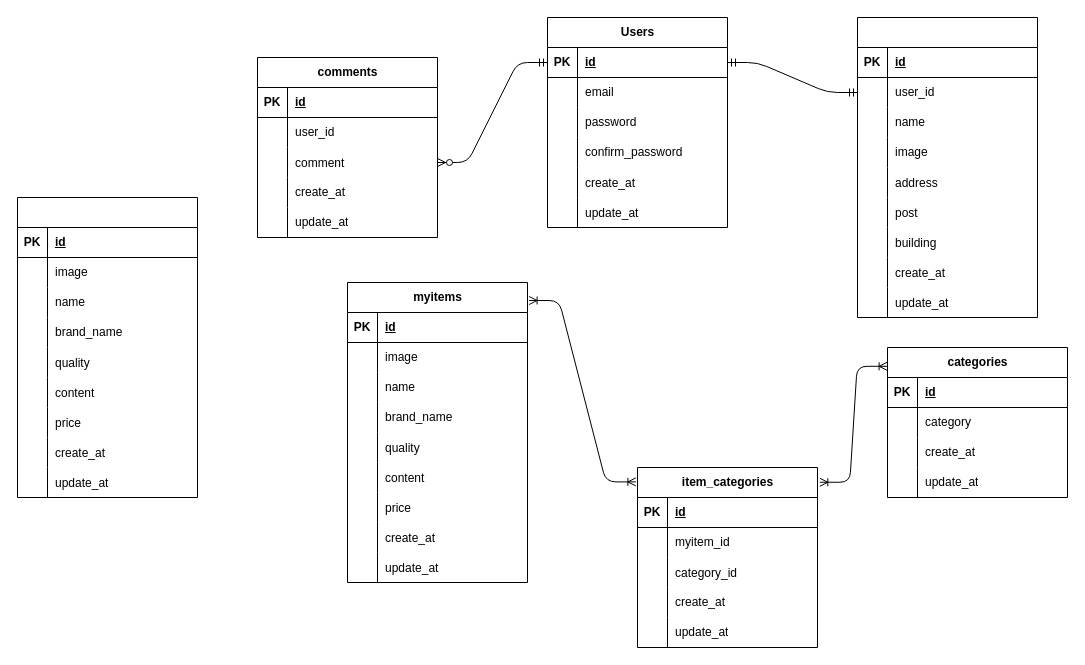
The diagram is 1085 pixels wide and 665 high, and some of its shapes have lost their labels. The box of each missing label's shape, as (x1, y1, x2, y2) in pixels:
items: (16, 196, 198, 498)
profiles: (856, 16, 1038, 318)
